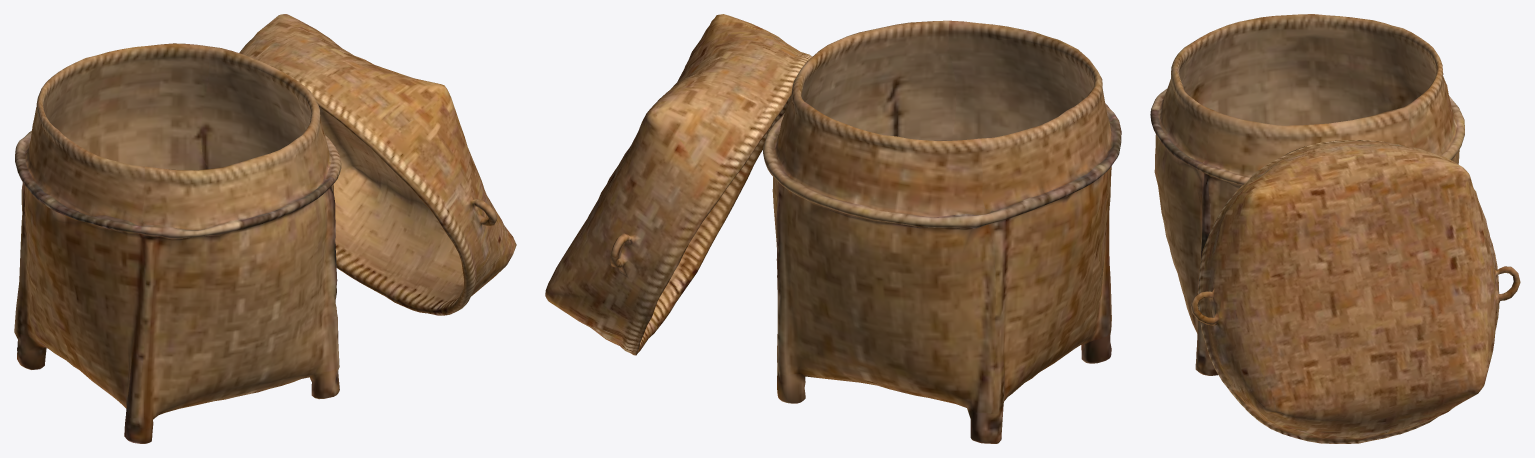
Rendered from wicker-baskets.09043dc380.glb.
3 views of the same model, side by side, from view 1: azimuth 30°, elevation 25°; view 2: azimuth 150°, elevation 25°; view 3: azimuth 270°, elevation 25° (orthographic). The views are drawn at different scales.
Visible parts, largest first — view 1: wicker_basket_02_base; view 2: wicker_basket_02_base; view 3: wicker_basket_02_base.
Part boxes in pixels (x1=…): wicker_basket_02_base: x1=14, y1=14, x2=516, y2=443; wicker_basket_02_base: x1=545, y1=14, x2=1121, y2=443; wicker_basket_02_base: x1=1150, y1=14, x2=1520, y2=443.
Size of the model in its own units: 0.3469 by 0.2005 by 0.2545.
1 material, 1 textured.
